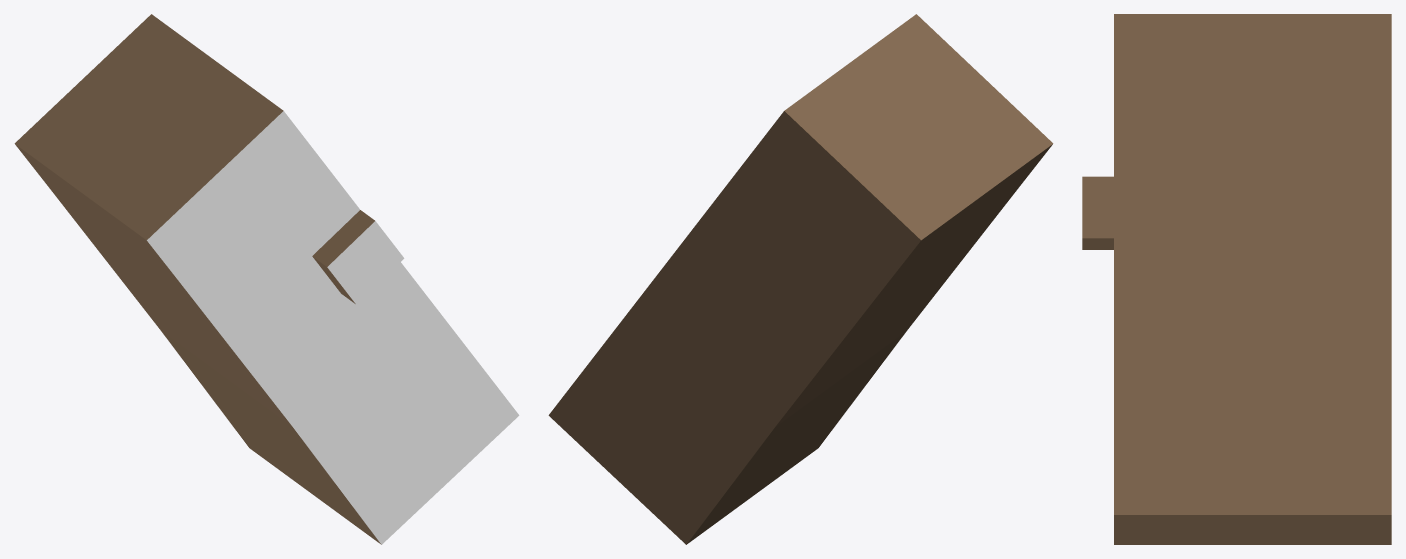
3 views of the same model, side by side, from view 1: azimuth 30°, elevation 25°; view 2: azimuth 150°, elevation 25°; view 3: azimuth 270°, elevation 25° (orthographic). The views are drawn at different scales.
Visible parts, largest first — view 1: City_PC-15285; view 2: City_PC-15285; view 3: City_PC-15285.
Part boxes in pixels (box(x1,y1,x2,y2)): City_PC-15285: box(14, 14, 519, 544); City_PC-15285: box(548, 14, 1053, 544); City_PC-15285: box(1082, 14, 1391, 544).
Size of the model in its own units: 2399 by 2817 by 1643.
